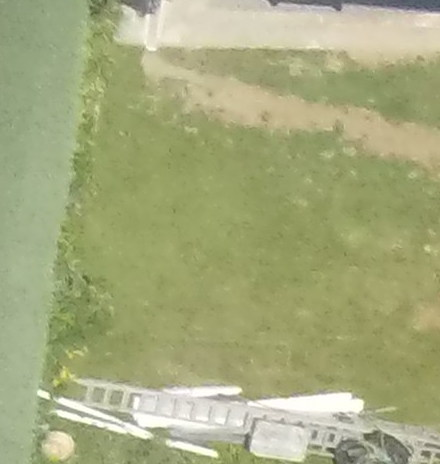container: (250, 417, 312, 463), (36, 428, 83, 461)
